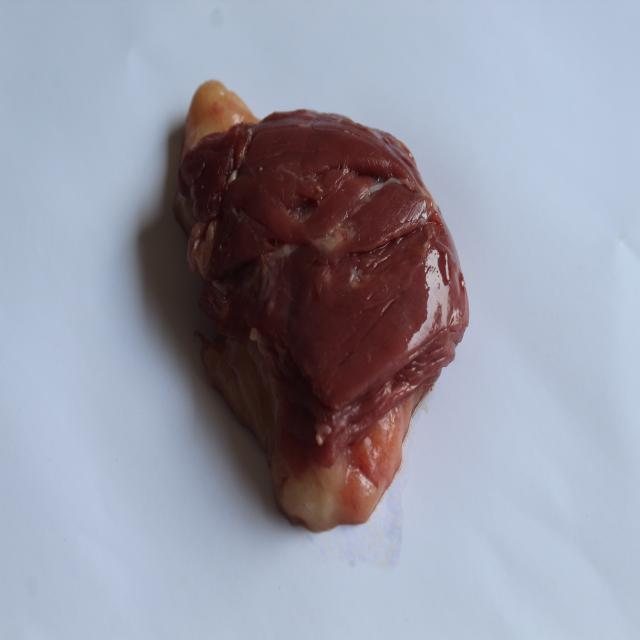beef: (147, 62, 488, 546)
